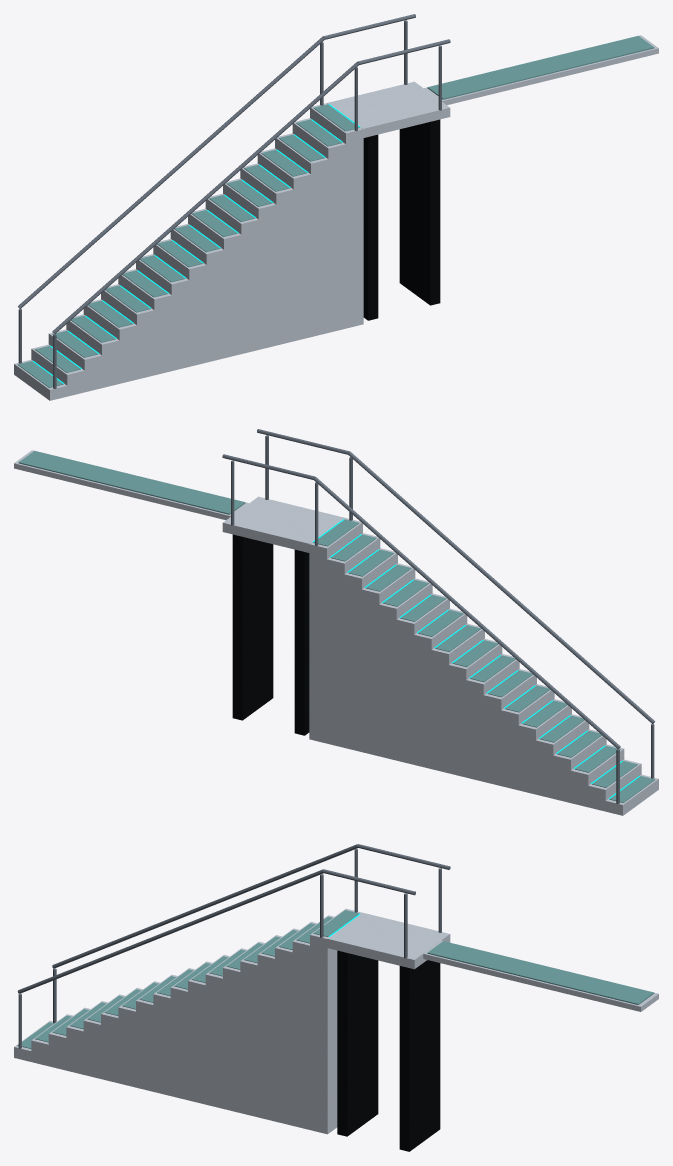
Rendered from tt_pool_board_3m.glb.
3 renders of one model, top to bottom at view 1: azimuth 30°, elevation 25°; view 2: azimuth 150°, elevation 25°; view 3: azimuth 330°, elevation 25°, orthographic.
Parts seen in each view (by area): view 1: Board_StairTreads, Board_Supports, Board_TreadPad, Board_Handrail, Board_Platform, Board_Nonslip, Board_FlexibleBlade, Board_RailPosts, Board_TreadNosing; view 2: Board_StairTreads, Board_Supports, Board_TreadPad, Board_Handrail, Board_Platform, Board_Nonslip, Board_FlexibleBlade, Board_RailPosts, Board_TreadNosing; view 3: Board_StairTreads, Board_Supports, Board_TreadPad, Board_Platform, Board_Handrail, Board_Nonslip, Board_FlexibleBlade, Board_RailPosts.
Boxes of the visible parts, x1=… form: Board_StairTreads: x1=14, y1=103, x2=363, y2=400; Board_Supports: x1=363, y1=119, x2=440, y2=320; Board_TreadPad: x1=17, y1=104, x2=359, y2=387; Board_Handrail: x1=18, y1=14, x2=450, y2=334; Board_Platform: x1=327, y1=81, x2=450, y2=137; Board_Nonslip: x1=427, y1=35, x2=654, y2=99; Board_FlexibleBlade: x1=424, y1=35, x2=658, y2=104; Board_RailPosts: x1=18, y1=20, x2=441, y2=388; Board_TreadNosing: x1=32, y1=104, x2=360, y2=383; Board_StairTreads: x1=309, y1=518, x2=658, y2=815; Board_Supports: x1=232, y1=534, x2=309, y2=735; Board_TreadPad: x1=313, y1=519, x2=655, y2=802; Board_Handrail: x1=222, y1=429, x2=654, y2=749; Board_Platform: x1=222, y1=496, x2=345, y2=552; Board_Nonslip: x1=18, y1=450, x2=245, y2=514; Board_FlexibleBlade: x1=14, y1=450, x2=248, y2=519; Board_RailPosts: x1=231, y1=435, x2=654, y2=803; Board_TreadNosing: x1=312, y1=519, x2=640, y2=798; Board_StairTreads: x1=14, y1=908, x2=362, y2=1134; Board_Supports: x1=337, y1=950, x2=440, y2=1151; Board_TreadPad: x1=17, y1=910, x2=359, y2=1048; Board_Platform: x1=327, y1=913, x2=450, y2=969; Board_Handrail: x1=17, y1=844, x2=450, y2=993; Board_Nonslip: x1=427, y1=941, x2=654, y2=1004; Board_FlexibleBlade: x1=423, y1=940, x2=658, y2=1011; Board_RailPosts: x1=18, y1=849, x2=441, y2=1048.
Size of what is drawn, in the model's own units: 9.94 by 4.05 by 1.02.
Materials: 5 (3 with a texture image).
